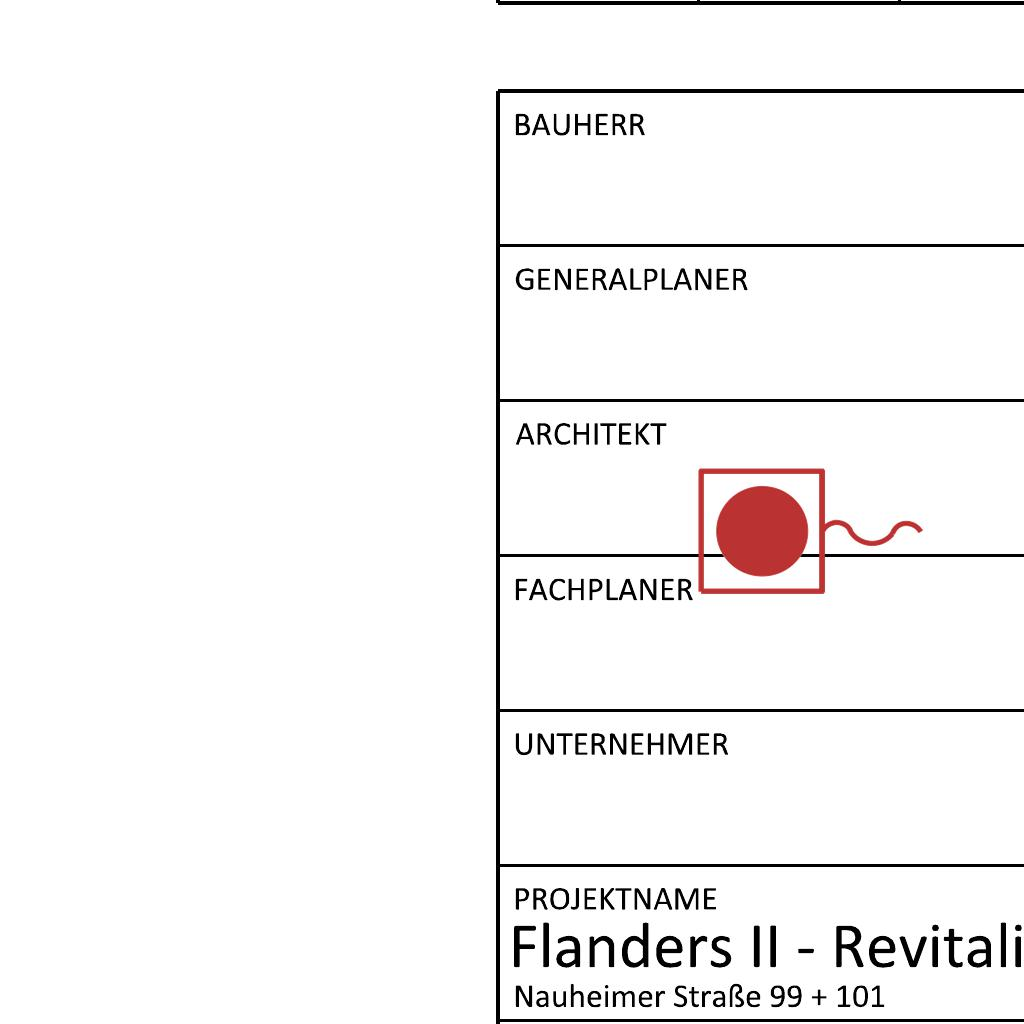Zugtaster: (690, 461, 934, 605)
